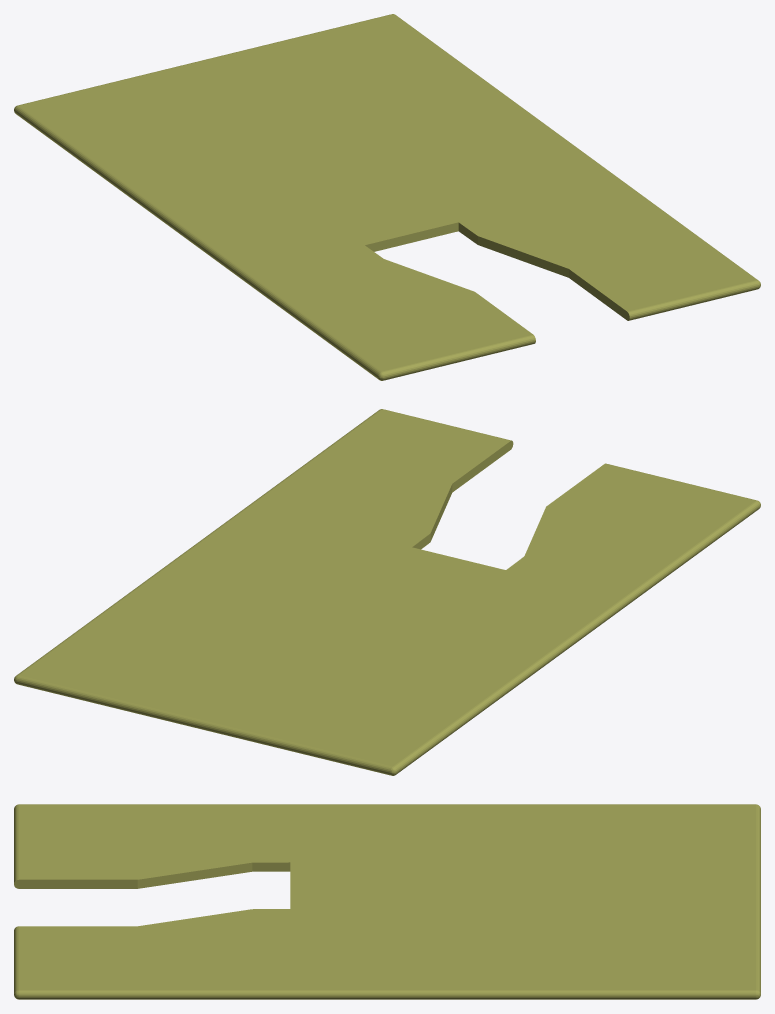
Rendered from Grass.fbx.
3 renders of one model, top to bottom at view 1: azimuth 30°, elevation 25°; view 2: azimuth 150°, elevation 25°; view 3: azimuth 270°, elevation 25°, orthographic.
Parts seen in each view (by area): view 1: grash; view 2: grash; view 3: grash.
Boxes of the visible parts, x1,y1,x2,y2 form: grash: [14, 14, 760, 380]; grash: [14, 409, 760, 775]; grash: [14, 804, 760, 999].
Bounding box in the file's own units: 9001 × 201 × 15000.
